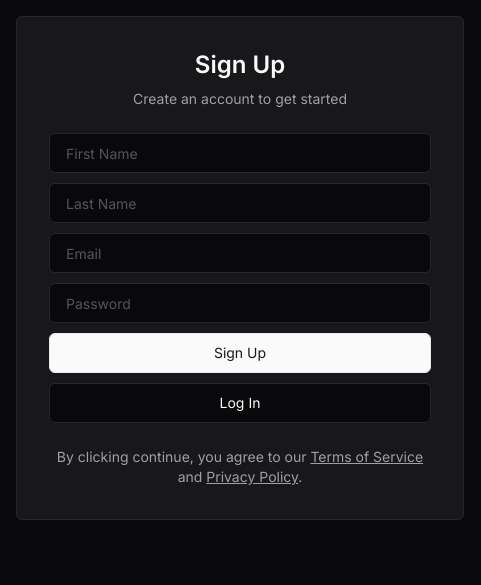
Test case: Signup Page Tests › should show validation error when form is submitted with missing fields
Click the button "Sign Up". click: (240, 353)
box: top-left (49, 333), bottom-right (431, 373)
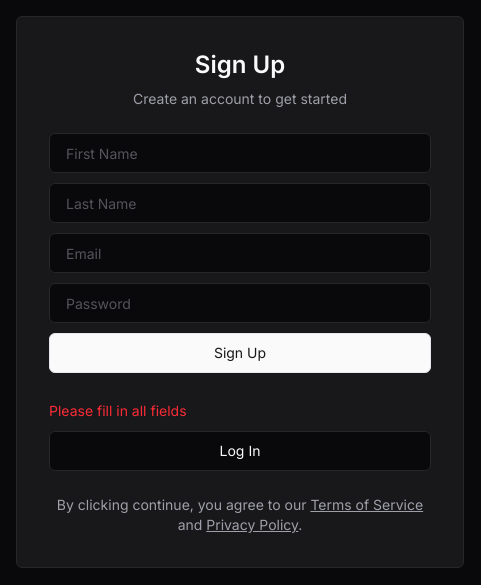
expect the text "Please fill in all fields" is shown: met, box top-left (49, 402), bottom-right (186, 419)
